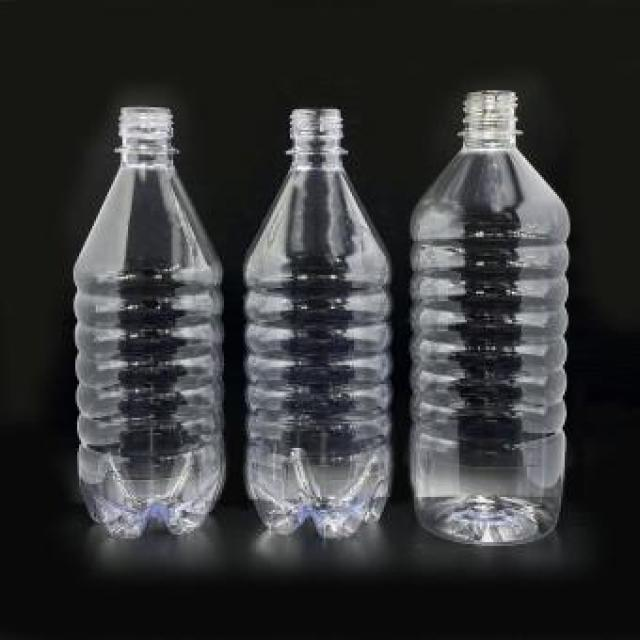bottle: (410, 92, 570, 546), (75, 105, 226, 540), (246, 108, 390, 540)
